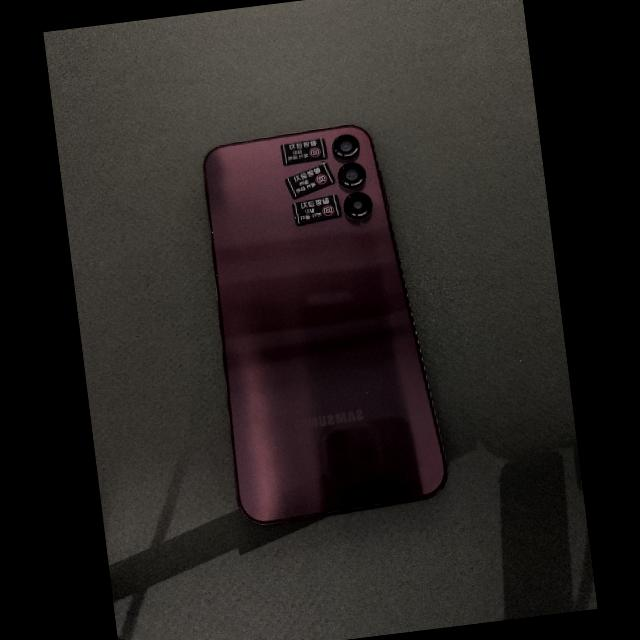lens: (342, 192, 371, 219), (331, 134, 359, 161), (336, 163, 364, 189)
phone: (203, 125, 446, 524)
sticker: (285, 162, 335, 199), (292, 194, 341, 223), (281, 138, 328, 164)
